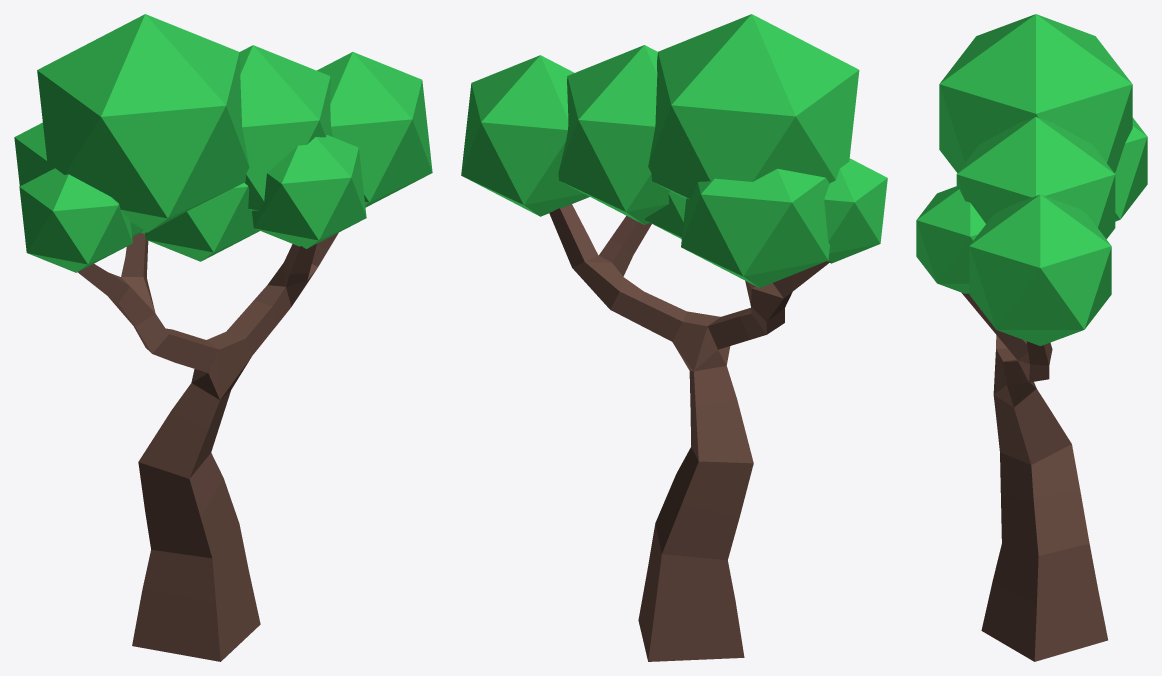
File: tree1.fbx
3 renders of one model, left to right at view 1: azimuth 30°, elevation 25°; view 2: azimuth 150°, elevation 25°; view 3: azimuth 270°, elevation 25°, orthographic. The views are drawn at different scales.
Parts seen in each view (by area): view 1: Icosphere, Cube; view 2: Icosphere, Cube; view 3: Icosphere, Cube.
Boxes of the visible parts, x1,y1,x2,y2 form: Icosphere: (14,14,432,272); Cube: (77,233,338,661); Icosphere: (461,14,887,287); Cube: (549,204,831,661); Icosphere: (916,14,1147,345); Cube: (961,292,1107,661).
Size of the model in its own units: 2081 by 3149 by 1105.
